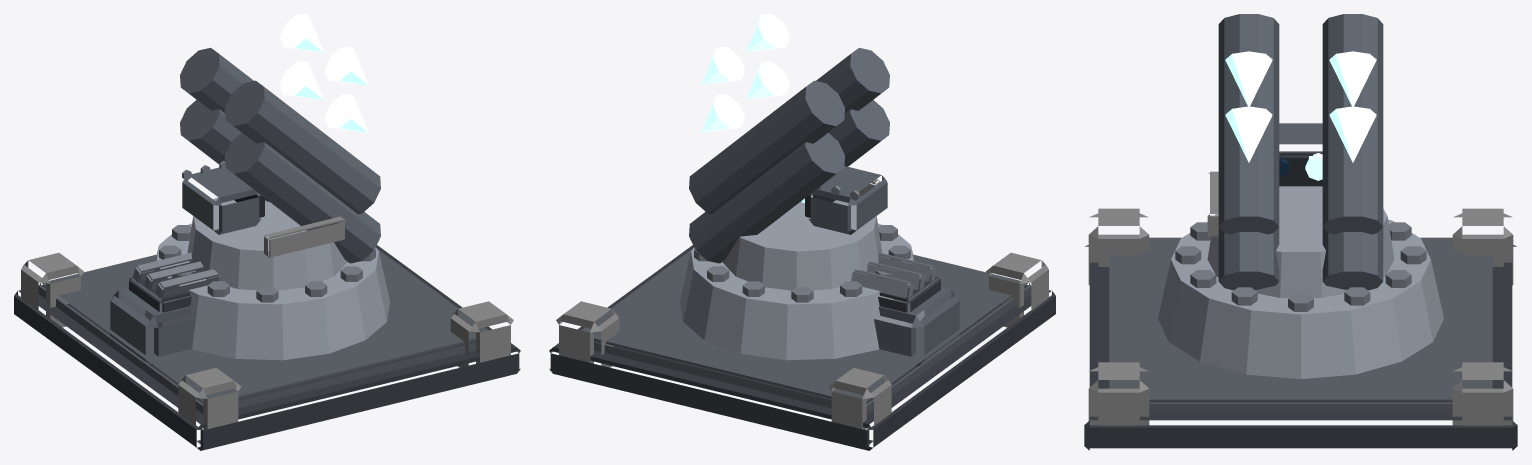
Rendered from con_battery_aa.glb.
3 renders of one model, left to right at view 1: azimuth 30°, elevation 25°; view 2: azimuth 150°, elevation 25°; view 3: azimuth 270°, elevation 25°, orthographic. The views are drawn at different scales.
Visible parts, largest first — view 1: body, turret; view 2: body, turret; view 3: body, turret.
Boxes of the visible parts, bbox=[...] form: body: bbox=[14, 223, 520, 450]; turret: bbox=[180, 14, 380, 290]; body: bbox=[549, 223, 1055, 450]; turret: bbox=[689, 14, 889, 290]; body: bbox=[1084, 208, 1517, 450]; turret: bbox=[1207, 14, 1394, 297].
Size of the model in its own units: 32 by 28.2 by 32.
